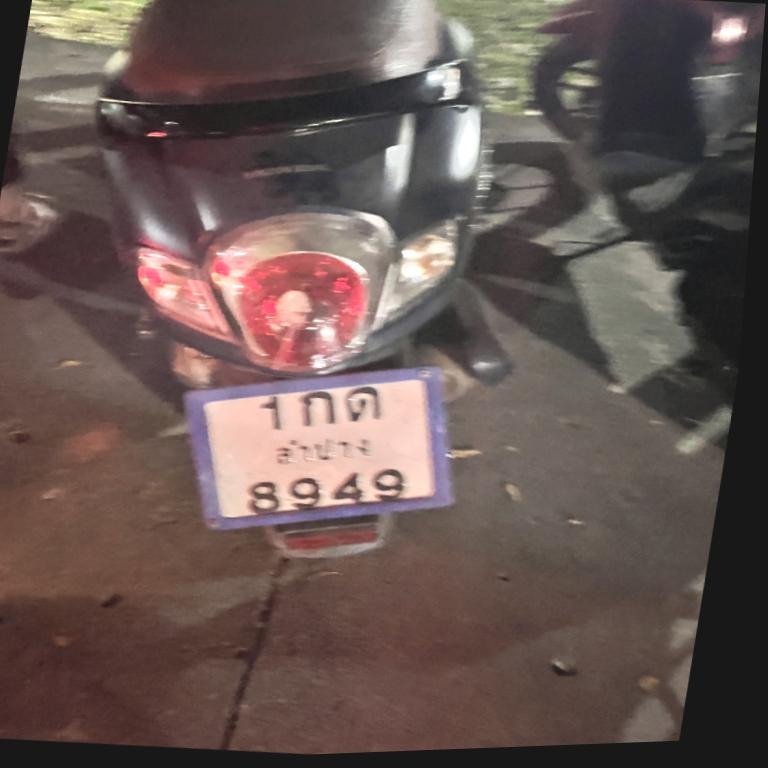license plate: (160, 343, 471, 555)
